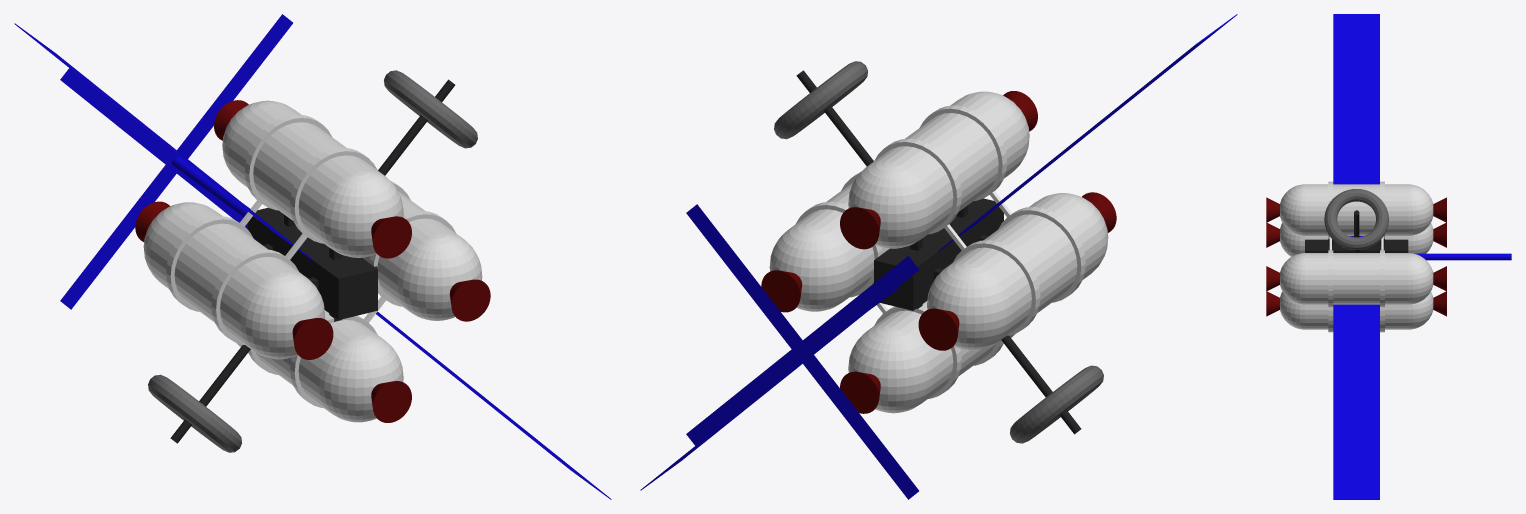
The model's file is Miner_MK1.fbx.
3 renders of one model, left to right at view 1: azimuth 30°, elevation 25°; view 2: azimuth 150°, elevation 25°; view 3: azimuth 270°, elevation 25°, orthographic. The views are drawn at different scales.
Visible parts, largest first — view 1: Cylinder.001, Cylinder, Plane, Cylinder.002, Cylinder.003, CenterBody, Torus.001, Torus, Cube, Cylinder.004, Cone.005, Cone.004 (+2 smaller); view 2: Cylinder.001, Cylinder, Plane, Cylinder.002, Cylinder.003, CenterBody, Torus, Torus.001, Cylinder.004, Cube, Cone, Cone.001 (+2 smaller); view 3: Cube, Cylinder.003, Cylinder.001, Cylinder.002, Torus, Cylinder, CenterBody, Plane.
Boxes of the visible parts, x1=… form: Cylinder.001: x1=222, y1=100, x2=403, y2=257; Cylinder: x1=143, y1=202, x2=324, y2=359; Plane: x1=60, y1=14, x2=292, y2=309; Cylinder.002: x1=236, y1=310, x2=403, y2=422; Cylinder.003: x1=362, y1=180, x2=482, y2=320; CenterBody: x1=248, y1=208, x2=377, y2=321; Torus.001: x1=148, y1=374, x2=241, y2=452; Torus: x1=384, y1=70, x2=477, y2=148; Cube: x1=14, y1=23, x2=611, y2=499; Cylinder.004: x1=170, y1=79, x2=455, y2=443; Cone.005: x1=371, y1=216, x2=411, y2=258; Cone.004: x1=449, y1=279, x2=490, y2=321; Cylinder.001: x1=848, y1=91, x2=1029, y2=248; Cylinder: x1=927, y1=193, x2=1108, y2=349; Plane: x1=686, y1=204, x2=919, y2=499; Cylinder.002: x1=848, y1=301, x2=1015, y2=413; Cylinder.003: x1=769, y1=171, x2=889, y2=311; CenterBody: x1=874, y1=198, x2=1003, y2=310; Torus: x1=774, y1=61, x2=867, y2=139; Torus.001: x1=1010, y1=365, x2=1103, y2=443; Cylinder.004: x1=796, y1=70, x2=1081, y2=434; Cube: x1=640, y1=14, x2=1237, y2=490; Cone: x1=918, y1=308, x2=959, y2=350; Cone.001: x1=840, y1=207, x2=880, y2=249; Cube: x1=1333, y1=14, x2=1379, y2=499; Cylinder.003: x1=1280, y1=250, x2=1433, y2=307; Cylinder.001: x1=1280, y1=181, x2=1433, y2=238; Cylinder.002: x1=1280, y1=291, x2=1433, y2=332; Torus: x1=1324, y1=189, x2=1388, y2=249; Cylinder: x1=1280, y1=223, x2=1433, y2=256; CenterBody: x1=1305, y1=238, x2=1408, y2=252; Plane: x1=1414, y1=253, x2=1511, y2=260.
Bounding box in the file's own units: 1416 × 1416 × 950.
